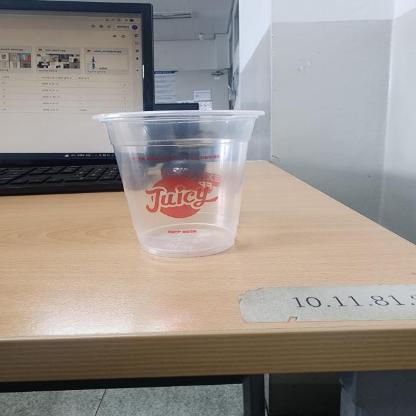Plastic Cup: (89, 109, 267, 257)
